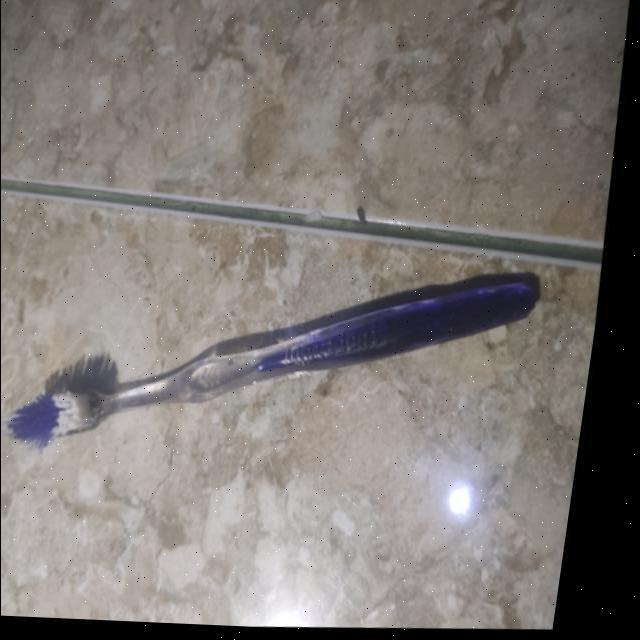toothbrush: (21, 252, 554, 473)
